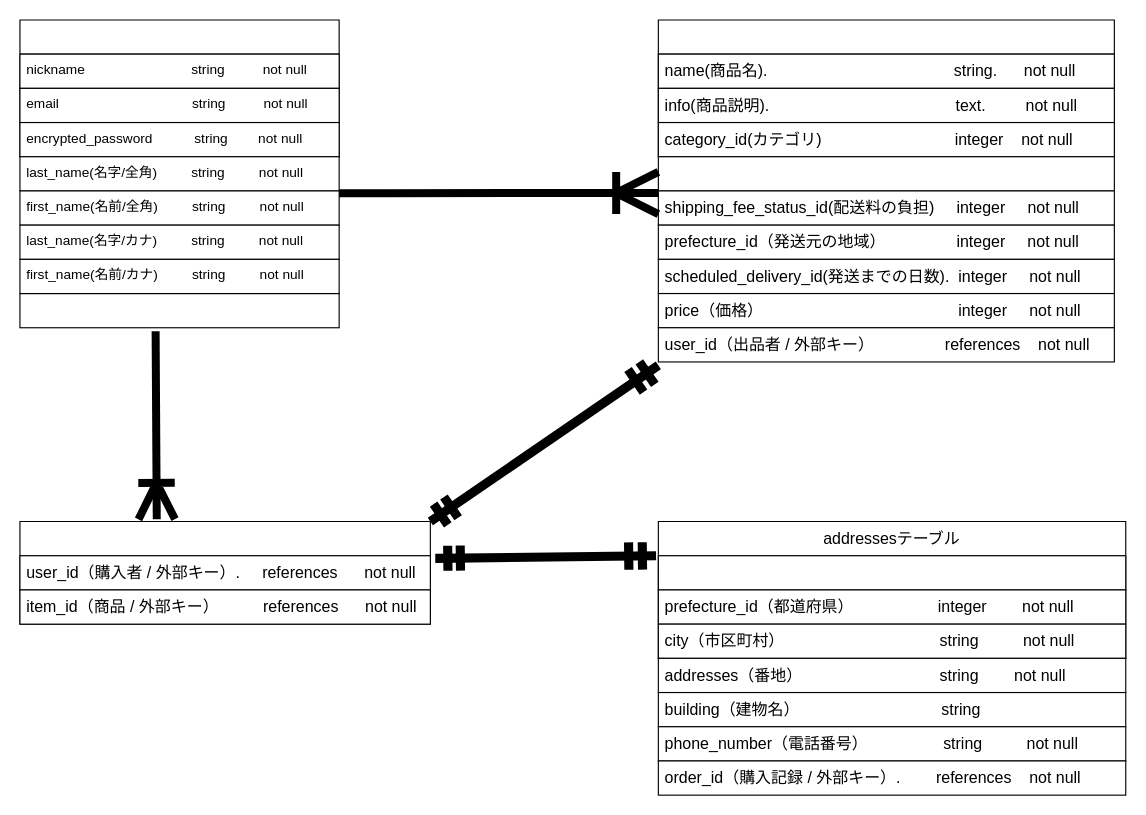
Image size: 1146x815. Some labels were removed from this diagram. The box of each missing label's shape, as (x1, y1, x2, y2) in pixels:
birth_date date. not null: (19, 292, 339, 328)
Itemsテーブル: (657, 19, 1114, 157)
Ordersテーブル: (19, 520, 430, 624)
postal_code（郵便番号） string not null: (657, 555, 1126, 590)
sales_status_id(商品の状態). integer not null: (657, 156, 1114, 191)
Usersテーブル: (19, 19, 339, 157)
